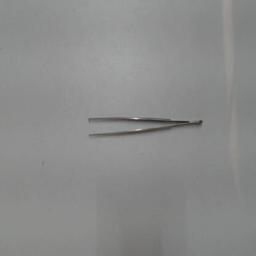Gillies Toothed Dissector: (82, 113, 206, 141)
